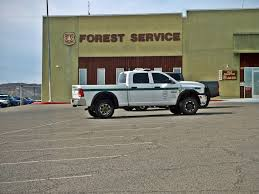Vehicle: (68, 68, 211, 117)
